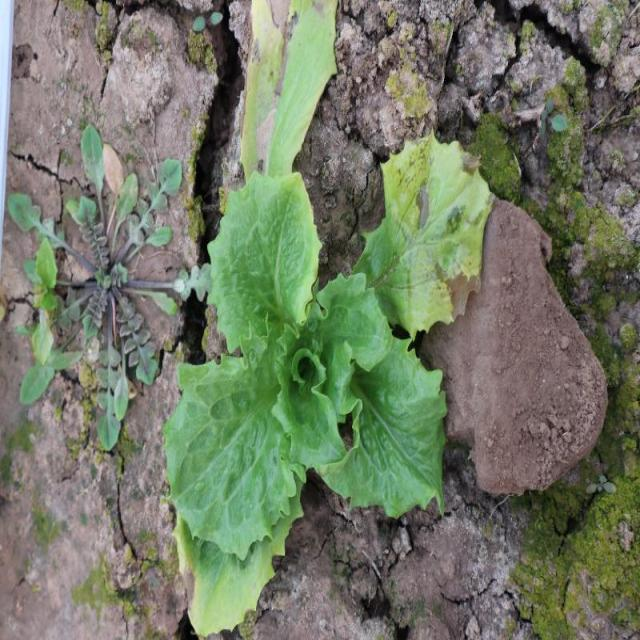crop: (161, 168, 449, 632)
